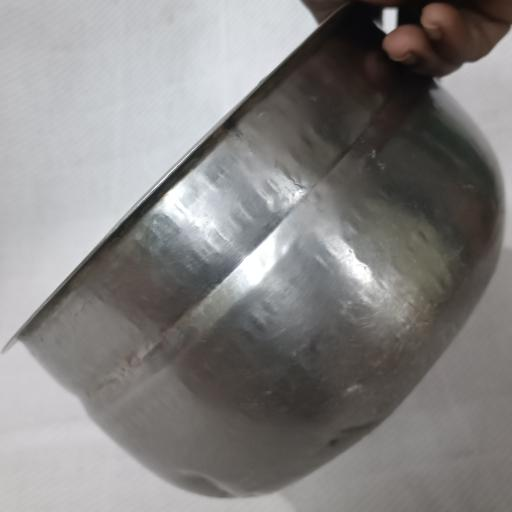vessel: (14, 8, 503, 496)
